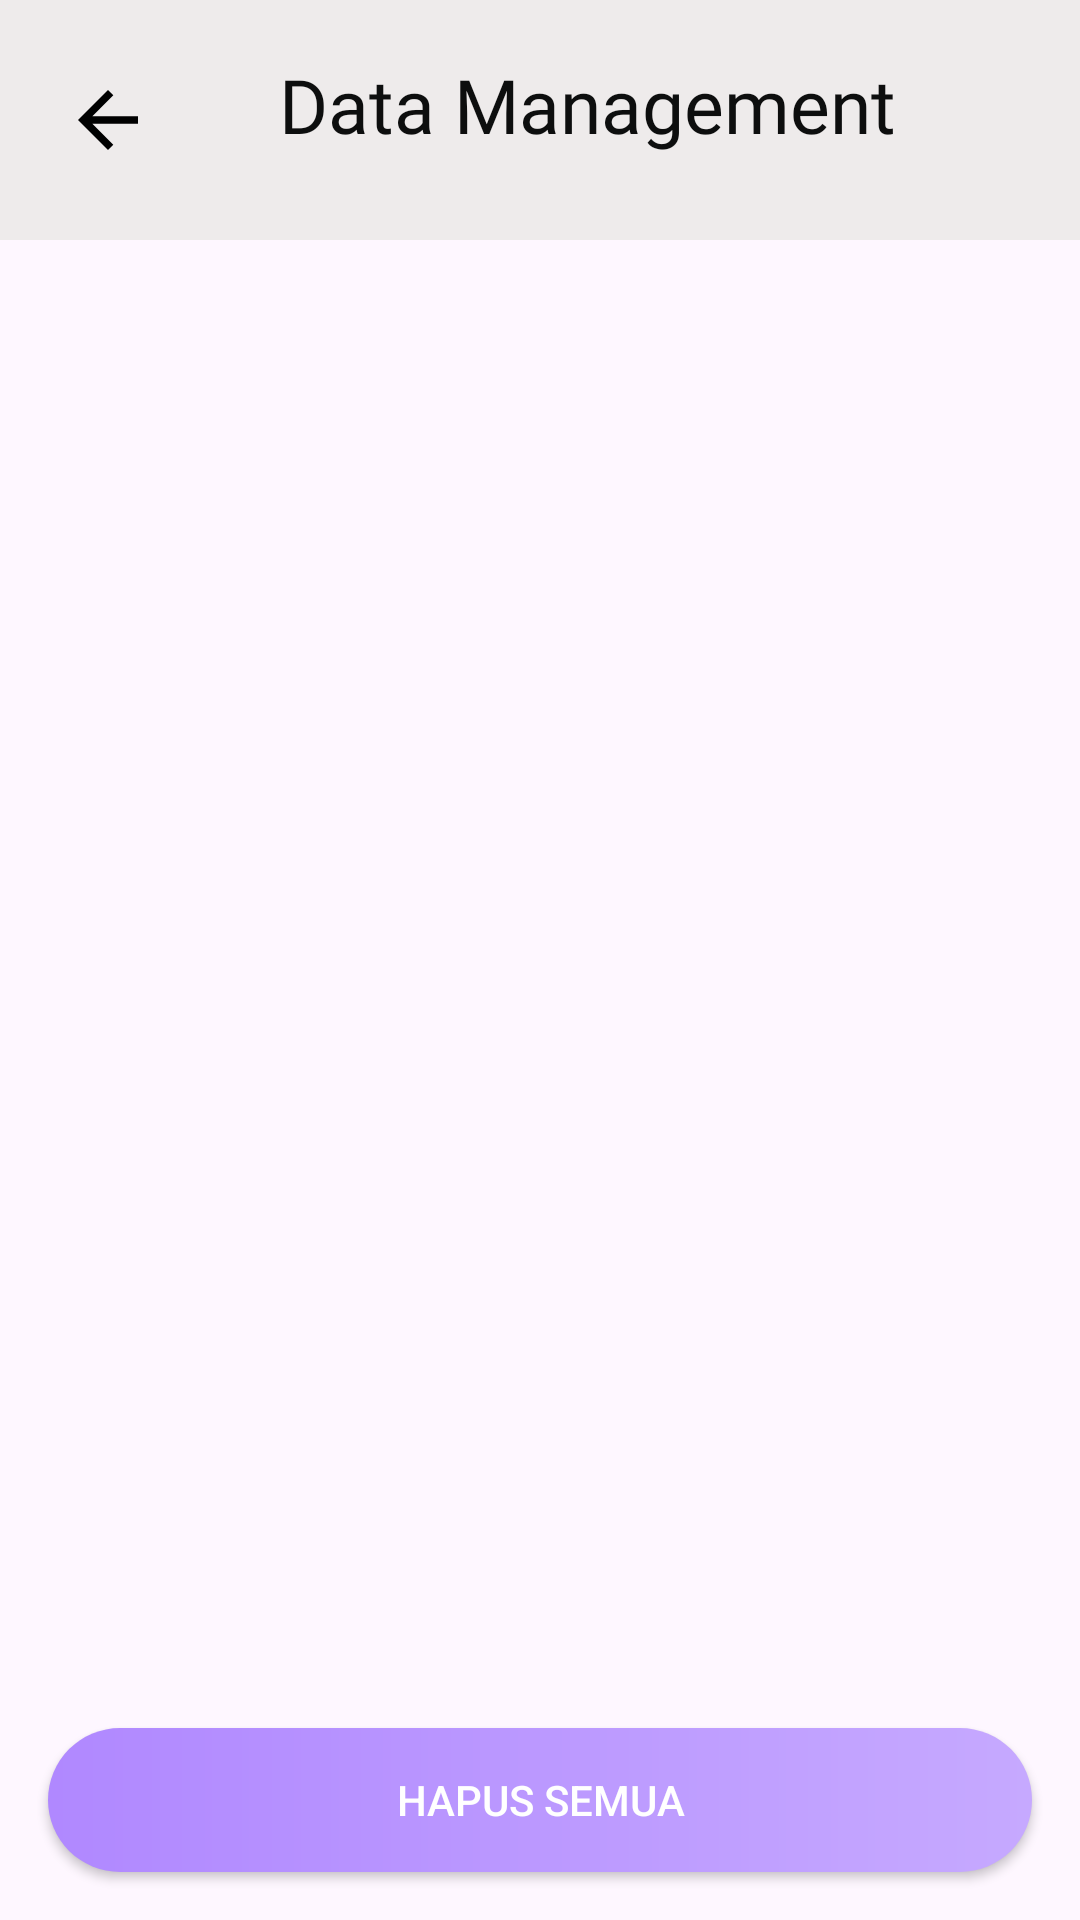

Point at icon controls on the screen. Image size 1080 x 1920, points as point (x, y).
back: point (108, 120)
